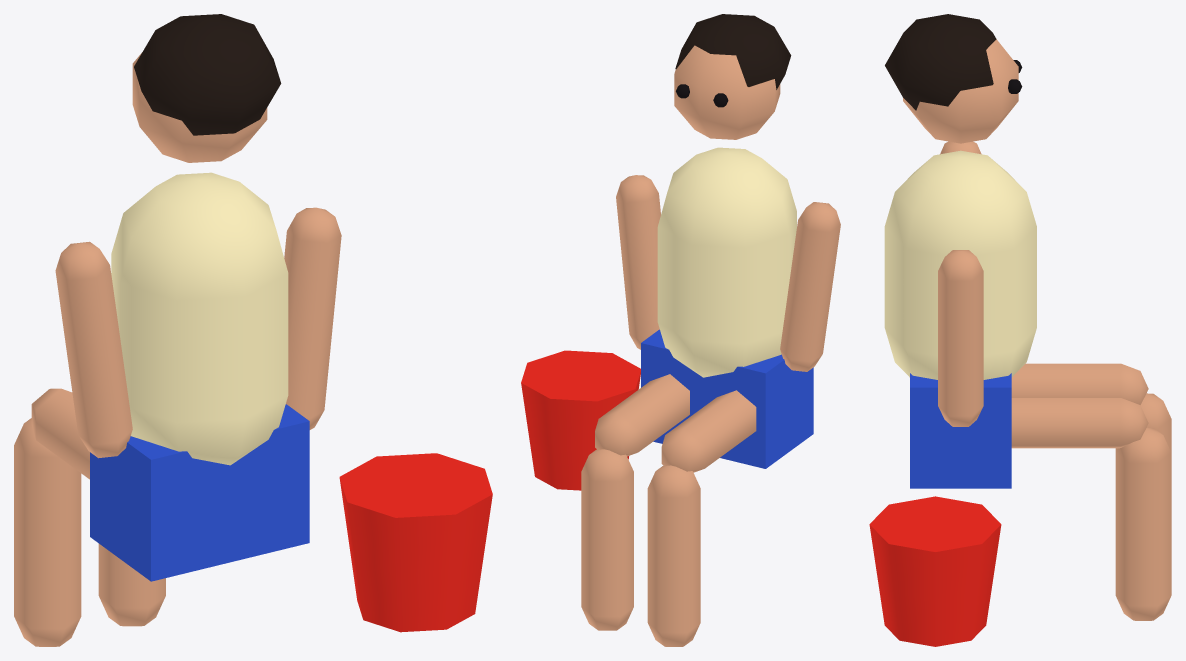
File: menino_sentado_slide.glb
3 views of the same model, side by side, from view 1: azimuth 30°, elevation 25°; view 2: azimuth 150°, elevation 25°; view 3: azimuth 270°, elevation 25° (orthographic). The views are drawn at different scales.
Parts seen in each view (by area): view 1: _MeshInstance3D_5750_12, _MeshInstance3D_5751_11, _MeshInstance3D_5762_0, _MeshInstance3D_5759_3, _MeshInstance3D_5753_9, _MeshInstance3D_5756_6, _MeshInstance3D_5757_5, _MeshInstance3D_5758_4, _MeshInstance3D_5755_7, _MeshInstance3D_5752_10; view 2: _MeshInstance3D_5750_12, _MeshInstance3D_5762_0, _MeshInstance3D_5751_11, _MeshInstance3D_5753_9, _MeshInstance3D_5755_7, _MeshInstance3D_5756_6, _MeshInstance3D_5758_4, _MeshInstance3D_5757_5, _MeshInstance3D_5752_10, _MeshInstance3D_5759_3, _MeshInstance3D_5754_8; view 3: _MeshInstance3D_5750_12, _MeshInstance3D_5762_0, _MeshInstance3D_5755_7, _MeshInstance3D_5751_11, _MeshInstance3D_5757_5, _MeshInstance3D_5759_3, _MeshInstance3D_5754_8, _MeshInstance3D_5758_4, _MeshInstance3D_5752_10, _MeshInstance3D_5753_9.
Part boxes in pixels (bbox=[...]): _MeshInstance3D_5750_12: bbox=[111, 172, 288, 465]; _MeshInstance3D_5751_11: bbox=[90, 404, 309, 581]; _MeshInstance3D_5762_0: bbox=[339, 453, 492, 632]; _MeshInstance3D_5759_3: bbox=[134, 14, 281, 135]; _MeshInstance3D_5753_9: bbox=[14, 418, 81, 646]; _MeshInstance3D_5756_6: bbox=[55, 241, 132, 458]; _MeshInstance3D_5757_5: bbox=[284, 207, 341, 429]; _MeshInstance3D_5758_4: bbox=[132, 53, 267, 162]; _MeshInstance3D_5755_7: bbox=[98, 543, 165, 626]; _MeshInstance3D_5752_10: bbox=[31, 388, 89, 479]; _MeshInstance3D_5750_12: bbox=[657, 147, 796, 377]; _MeshInstance3D_5762_0: bbox=[521, 350, 640, 490]; _MeshInstance3D_5751_11: bbox=[641, 329, 813, 468]; _MeshInstance3D_5753_9: bbox=[647, 465, 700, 646]; _MeshInstance3D_5755_7: bbox=[581, 449, 633, 630]; _MeshInstance3D_5756_6: bbox=[780, 202, 840, 371]; _MeshInstance3D_5758_4: bbox=[674, 45, 780, 139]; _MeshInstance3D_5757_5: bbox=[616, 175, 660, 349]; _MeshInstance3D_5752_10: bbox=[661, 390, 756, 472]; _MeshInstance3D_5759_3: bbox=[675, 14, 791, 89]; _MeshInstance3D_5754_8: bbox=[595, 374, 689, 456]; _MeshInstance3D_5750_12: bbox=[884, 150, 1036, 379]; _MeshInstance3D_5762_0: bbox=[869, 496, 1001, 646]; _MeshInstance3D_5755_7: bbox=[1115, 427, 1171, 620]; _MeshInstance3D_5751_11: bbox=[910, 373, 1011, 488]; _MeshInstance3D_5757_5: bbox=[938, 250, 983, 426]; _MeshInstance3D_5759_3: bbox=[885, 14, 996, 110]; _MeshInstance3D_5754_8: bbox=[1011, 398, 1148, 448]; _MeshInstance3D_5758_4: bbox=[903, 39, 1018, 143]; _MeshInstance3D_5752_10: bbox=[1011, 363, 1148, 404]; _MeshInstance3D_5753_9: bbox=[1115, 393, 1171, 452].
Size of the model in its own units: 0.7702 by 1.27 by 0.595.
